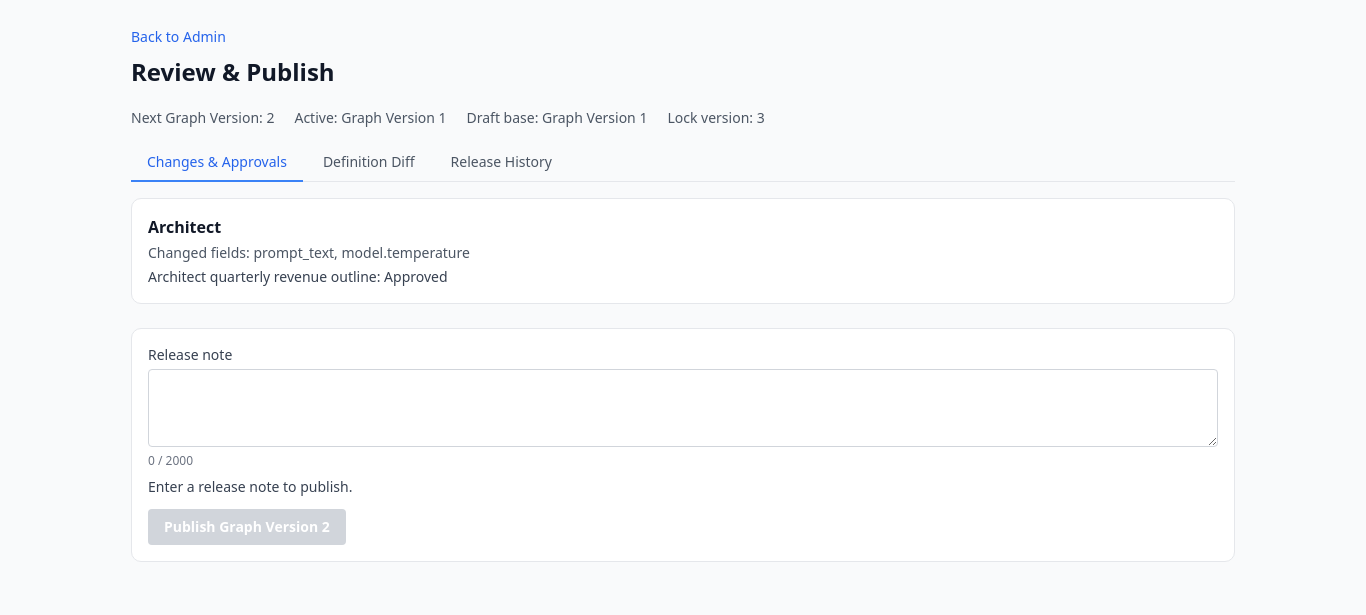
Test case: Release History: confirming a rollback › on a stale 409 names the current lock and active version, keeps the note, and reloads only on request
Expected: the text "Next Graph Version: 2" is shown, [131, 108, 274, 128]
Click the tab with test id "release-history-tab".
click(501, 163)  # box [435, 144, 568, 182]
(page scrolled)
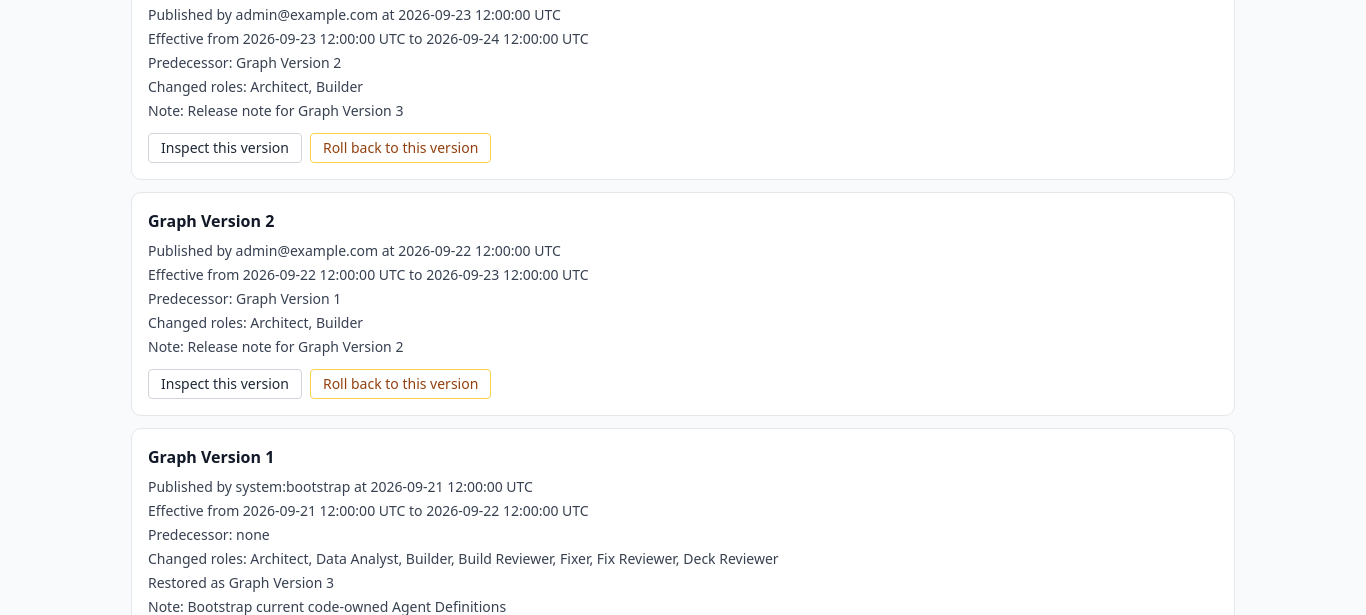
Click the button "Roll back to this version" below "Predecessor: Graph Version 1".
click(401, 384)  # box [310, 369, 491, 399]
(page scrolled)
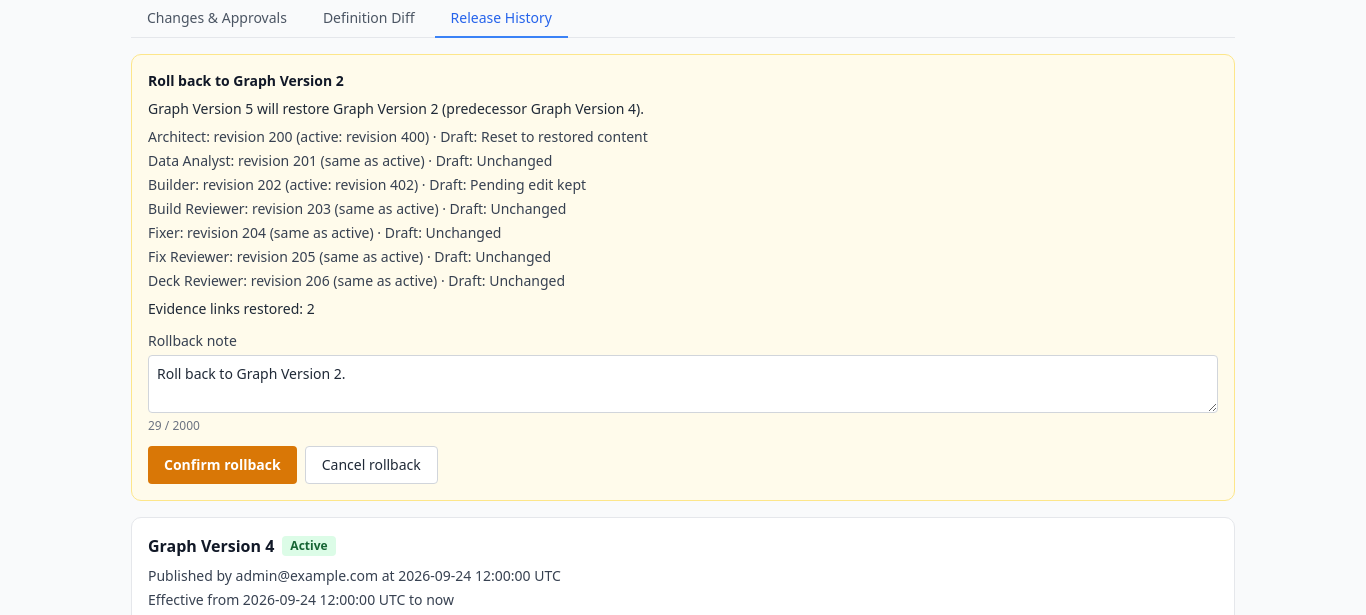
Replace the text in the text box with test id "rollback-note-input" with "Emergency: v4 broke outlines" at (683, 384), box [148, 355, 1218, 413]
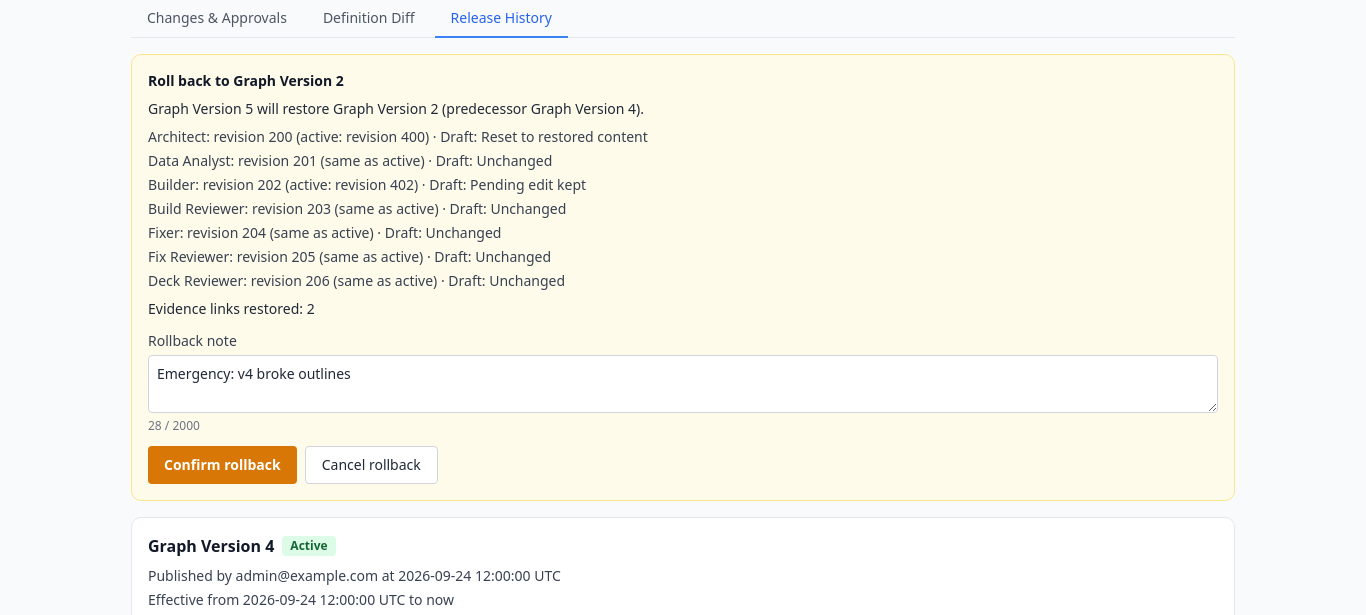
Click the button with test id "rollback-confirm-button".
click(222, 465)  # box [148, 446, 297, 484]
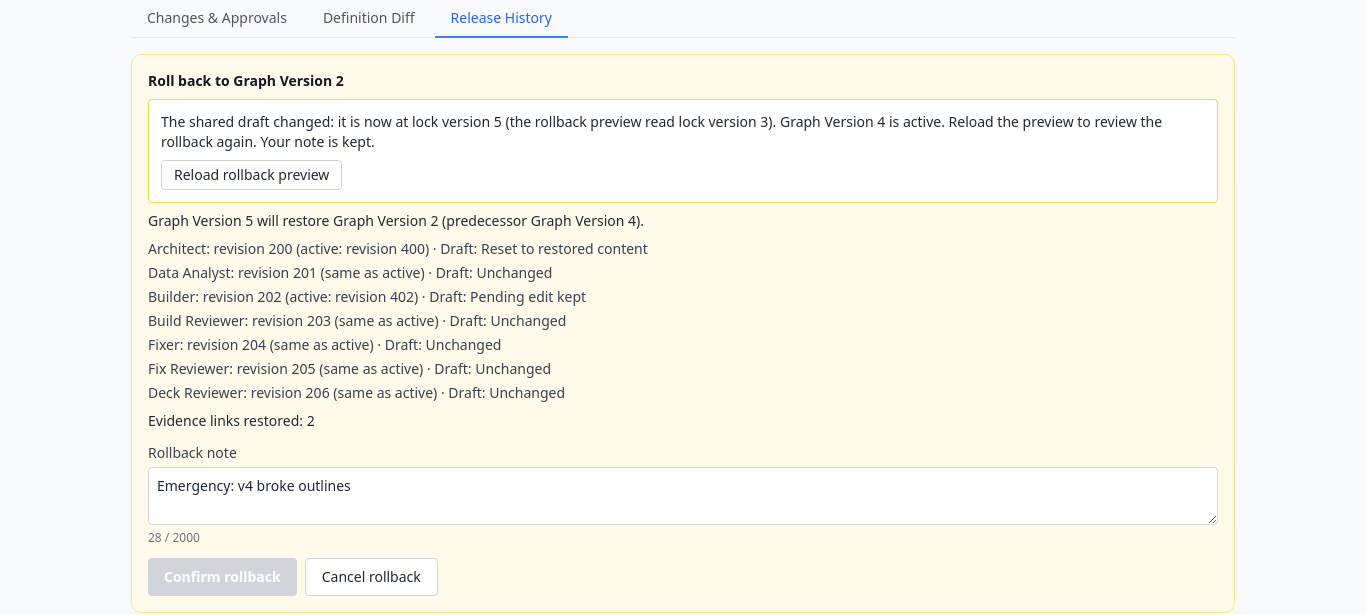
Result: the message with test id "rollback-stale-alert" shows "it is now at lock version 5" at [161, 112, 1162, 151]
Result: the message with test id "rollback-stale-alert" shows "Graph Version 4 is active" at [161, 112, 1162, 151]
Result: the button with test id "rollback-confirm-button" is disabled at [148, 558, 297, 596]
Click the button "Reload rollback preview".
click(252, 175)  # box [161, 160, 342, 190]
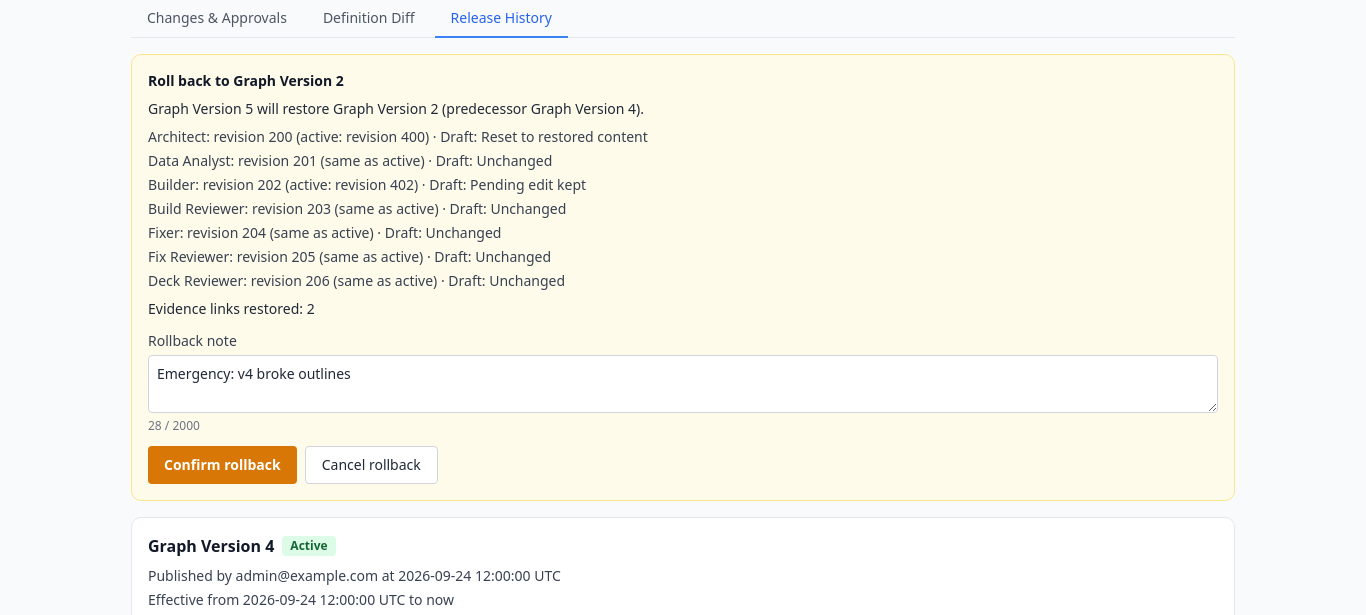
Result: the text "Graph Version 5 will restore Graph Version 2 (predecessor Graph Version 4)." is shown at [148, 99, 644, 118]
Result: the message with test id "rollback-stale-alert" is gone
Result: the button with test id "rollback-confirm-button" is enabled at [148, 446, 297, 484]
